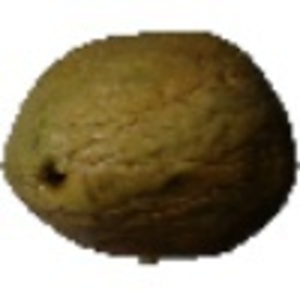mamão: (2, 25, 294, 277)
